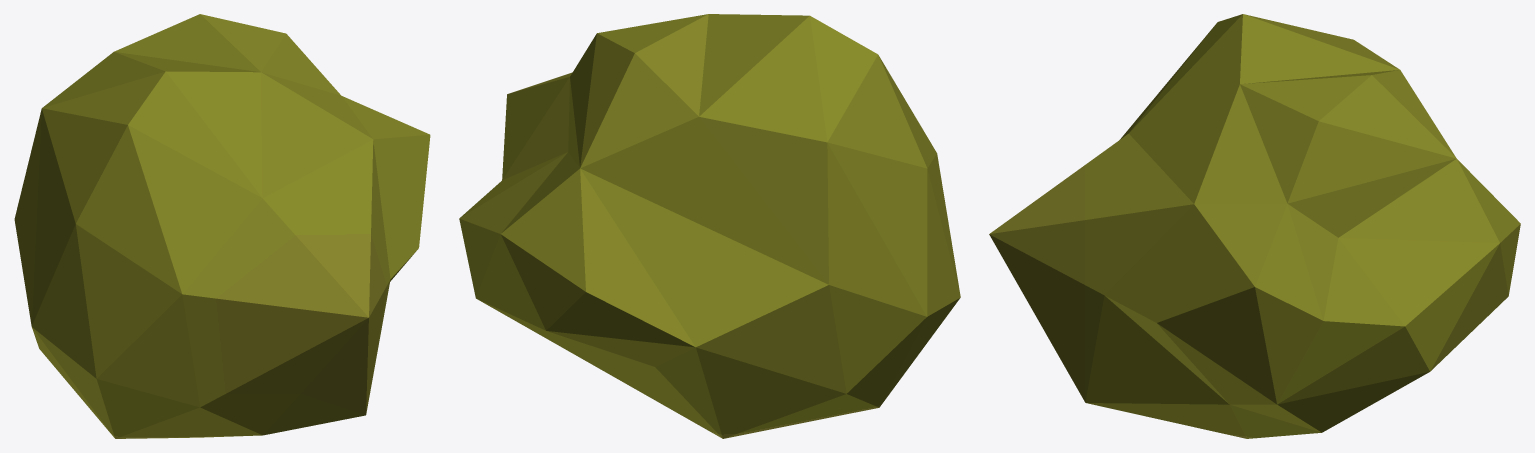
File: YN_TreeBush2.fbx
3 views of the same model, side by side, from view 1: azimuth 30°, elevation 25°; view 2: azimuth 150°, elevation 25°; view 3: azimuth 270°, elevation 25° (orthographic). The views are drawn at different scales.
Visible parts, largest first — view 1: YN_TreeBush2; view 2: YN_TreeBush2; view 3: YN_TreeBush2.
Boxes of the visible parts, x1=… form: YN_TreeBush2: x1=14, y1=14, x2=430, y2=438; YN_TreeBush2: x1=459, y1=14, x2=960, y2=438; YN_TreeBush2: x1=989, y1=14, x2=1520, y2=438.
Size of the model in its own units: 10.92 by 10.08 by 12.51.
